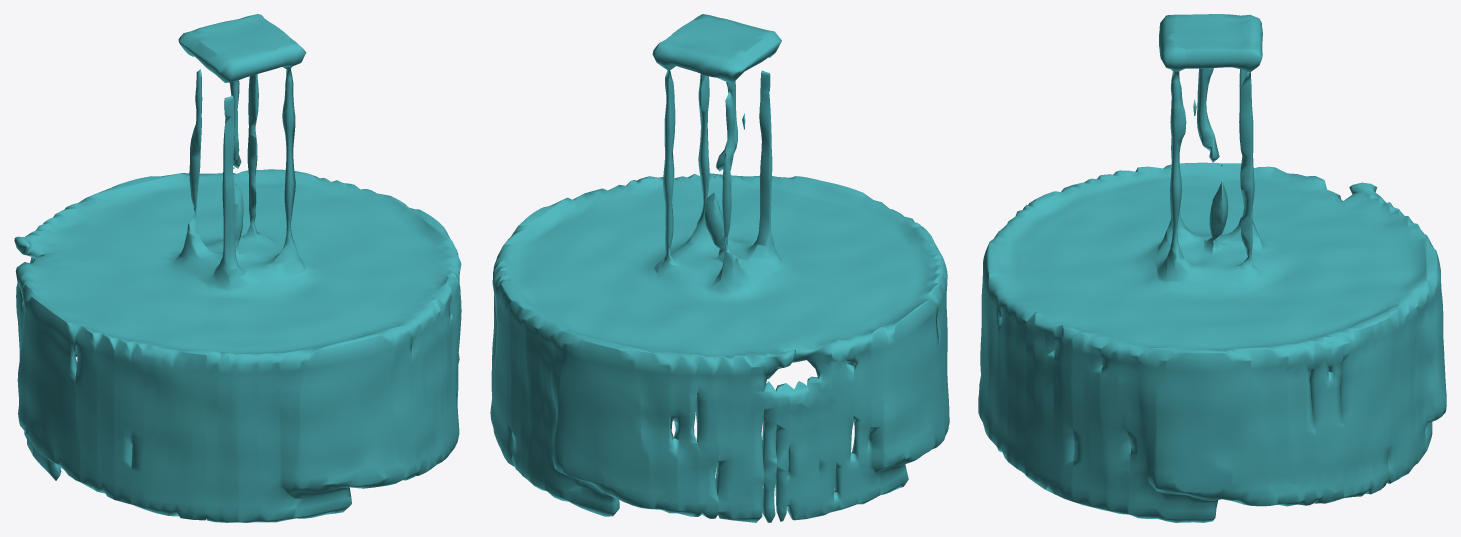
Rendered from lamp_7_4.obj.
3 renders of one model, left to right at view 1: azimuth 30°, elevation 25°; view 2: azimuth 150°, elevation 25°; view 3: azimuth 270°, elevation 25°, orthographic.
Size of the model in its own units: 0.7878 by 0.7523 by 0.7863.
